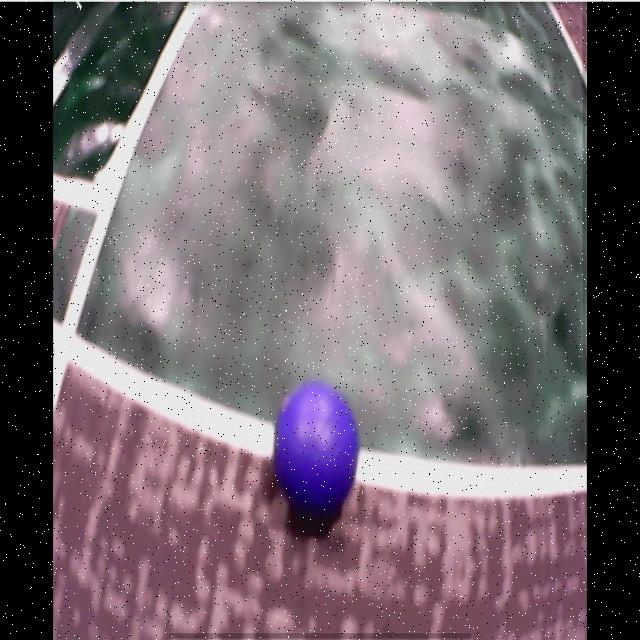ball: (277, 383, 359, 510)
